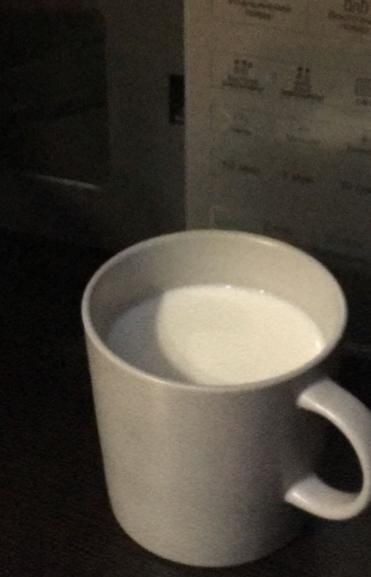produk_susu: (109, 256, 308, 517)
